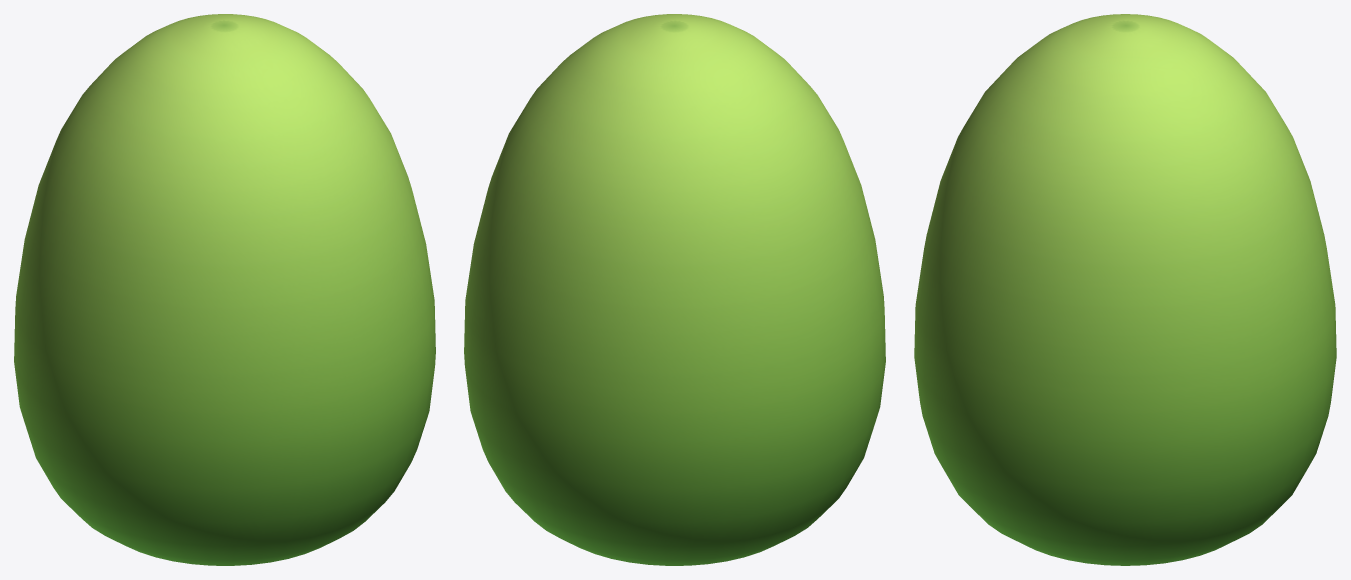
The model's file is greengrape.FBX.
3 renders of one model, left to right at view 1: azimuth 30°, elevation 25°; view 2: azimuth 150°, elevation 25°; view 3: azimuth 270°, elevation 25°, orthographic.
Visible parts, largest first — view 1: Sphere003; view 2: Sphere003; view 3: Sphere003.
Boxes of the visible parts, x1,y1,x2,y2 form: Sphere003: [14, 14, 435, 565]; Sphere003: [464, 14, 885, 565]; Sphere003: [914, 14, 1336, 565].
Bounding box in the file's own units: 98.14 × 132 × 98.14.
